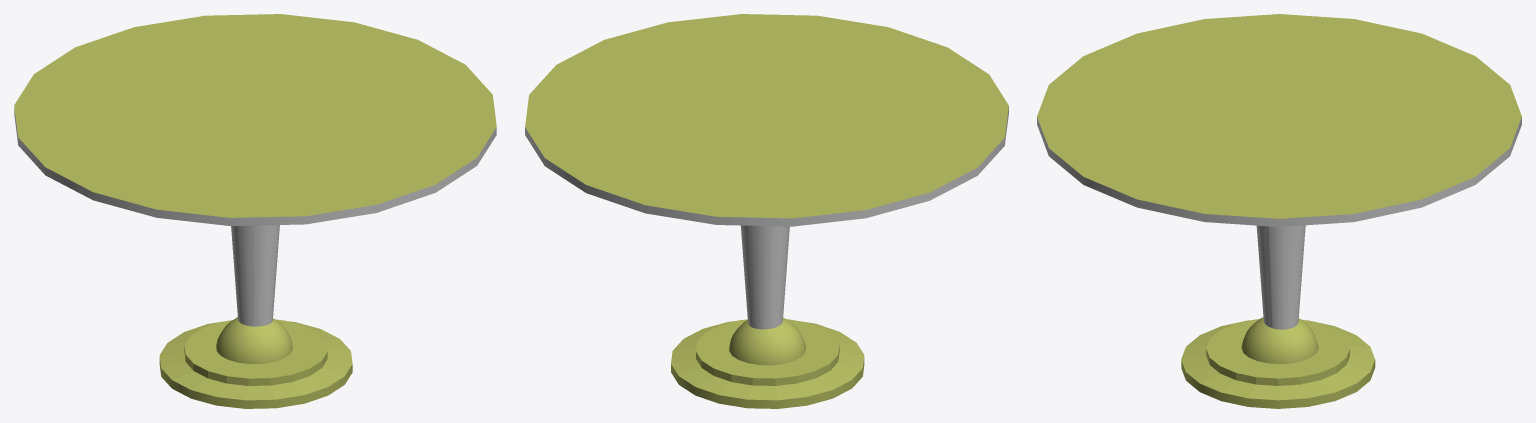
Rendered from Mesa.obj.
The picture shows the model from 3 angles, left to right: view 1: azimuth 30°, elevation 25°; view 2: azimuth 150°, elevation 25°; view 3: azimuth 270°, elevation 25°; orthographic projection.
Parts seen in each view (by area): view 1: pCylinder2 mesa, mesa pCylinder1, mesa table_round_001_001, mesa pSphere1; view 2: pCylinder2 mesa, mesa pCylinder1, mesa table_round_001_001, mesa pSphere1; view 3: pCylinder2 mesa, mesa pCylinder1, mesa table_round_001_001, mesa pSphere1.
Part boxes in pixels (x1,y1,x2,y2): pCylinder2 mesa: [14, 14, 496, 225]; mesa pCylinder1: [159, 319, 352, 408]; mesa table_round_001_001: [231, 225, 279, 326]; mesa pSphere1: [216, 317, 292, 363]; pCylinder2 mesa: [525, 14, 1008, 226]; mesa pCylinder1: [671, 319, 864, 408]; mesa table_round_001_001: [740, 225, 789, 329]; mesa pSphere1: [729, 318, 805, 365]; pCylinder2 mesa: [1037, 14, 1521, 226]; mesa pCylinder1: [1181, 319, 1375, 408]; mesa table_round_001_001: [1256, 225, 1305, 329]; mesa pSphere1: [1241, 317, 1318, 364].
Bounding box in the file's own units: 5 × 2.86 × 5.
